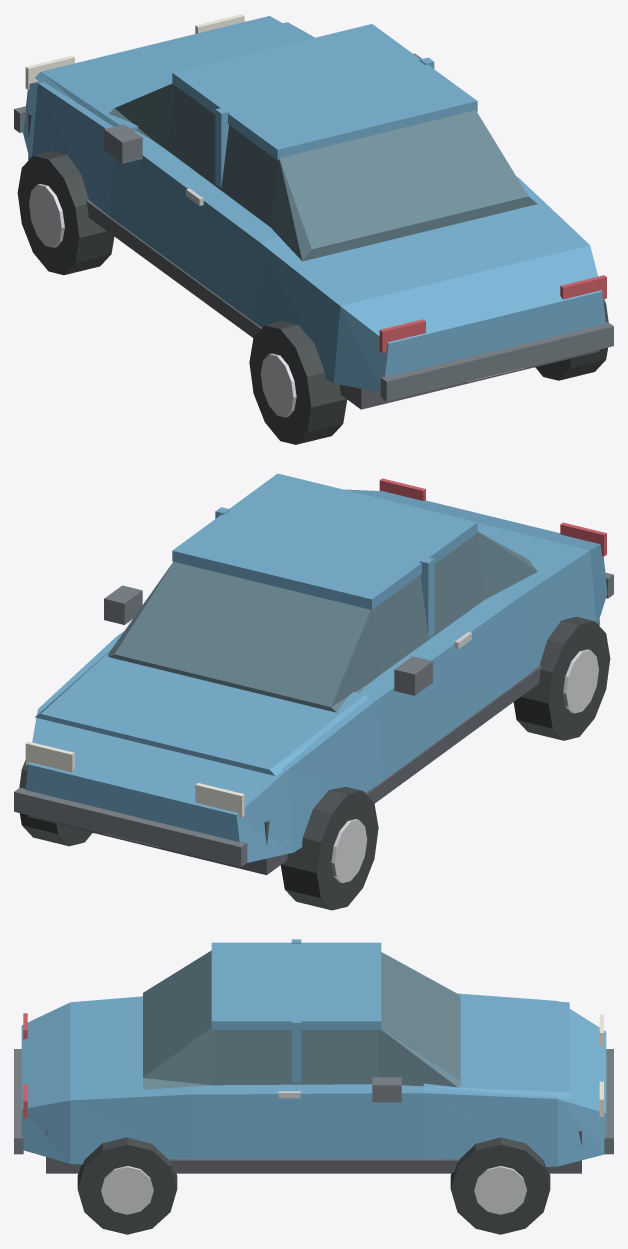
Rendered from onix.glb.
3 renders of one model, top to bottom at view 1: azimuth 30°, elevation 25°; view 2: azimuth 150°, elevation 25°; view 3: azimuth 270°, elevation 25°, orthographic. The views are drawn at different scales.
Visible parts, largest first — view 1: body_0001, cab_glass_0022, roof_0023, hood_0002, wheel_tire_0006, wheel_tire_0004, bumper_0027, lower_sill_0012, wheel_rim_0007, wheel_rim_0005, chassis_0000, wheel_tire_0015 (+5 smaller); view 2: body_0001, cab_glass_0022, roof_0023, hood_0002, wheel_tire_0004, wheel_tire_0006, bumper_0026, lower_sill_0012, wheel_rim_0005, wheel_rim_0007, wheel_tire_0013, mirror_0010 (+7 smaller); view 3: body_0001, cab_glass_0022, roof_0023, hood_0002, wheel_tire_0015, wheel_tire_0013, lower_sill_0021, wheel_rim_0014, wheel_rim_0016, chassis_0000, bumper_0026, bumper_0027 (+2 smaller).
Part boxes in pixels (left/top/right/bottom): body_0001: left=23, top=22, right=605, bottom=392; cab_glass_0022: left=108, top=83, right=537, bottom=261; roof_0023: left=172, top=24, right=477, bottom=160; hood_0002: left=35, top=16, right=309, bottom=130; wheel_tire_0006: left=249, top=321, right=347, bottom=444; wheel_tire_0004: left=17, top=151, right=114, bottom=275; bumper_0027: left=380, top=322, right=613, bottom=401; lower_sill_0012: left=86, top=200, right=262, bottom=337; wheel_rim_0007: left=260, top=353, right=296, bottom=417; wheel_rim_0005: left=29, top=184, right=64, bottom=247; chassis_0000: left=28, top=113, right=599, bottom=409; wheel_tire_0015: left=535, top=299, right=608, bottom=380; body_0001: left=25, top=489, right=607, bottom=862; cab_glass_0022: left=108, top=532, right=537, bottom=712; roof_0023: left=172, top=473, right=477, bottom=609; hood_0002: left=35, top=650, right=367, bottom=775; wheel_tire_0004: left=280, top=786, right=378, bottom=910; wheel_tire_0006: left=513, top=616, right=610, bottom=740; bumper_0026: left=14, top=787, right=247, bottom=866; lower_sill_0012: left=365, top=665, right=541, bottom=803; wheel_rim_0005: left=331, top=819, right=367, bottom=882; wheel_rim_0007: left=563, top=649, right=598, bottom=713; wheel_tire_0013: left=19, top=760, right=92, bottom=846; mirror_0010: left=394, top=656, right=432, bottom=695; body_0001: left=21, top=993, right=606, bottom=1166; cab_glass_0022: left=143, top=950, right=460, bottom=1089; roof_0023: left=211, top=942, right=381, bottom=1029; hood_0002: left=423, top=995, right=569, bottom=1098; wheel_tire_0015: left=77, top=1137, right=177, bottom=1234; wheel_tire_0013: left=450, top=1137, right=550, bottom=1234; lower_sill_0021: left=168, top=1159, right=459, bottom=1172; wheel_rim_0014: left=474, top=1166, right=526, bottom=1214; wheel_rim_0016: left=101, top=1166, right=153, bottom=1214; chassis_0000: left=46, top=1130, right=581, bottom=1173; bumper_0026: left=604, top=1049, right=613, bottom=1154; bumper_0027: left=14, top=1049, right=23, bottom=1154.
Bounding box in the file's own units: 1.97 × 1.47 × 4.1.
